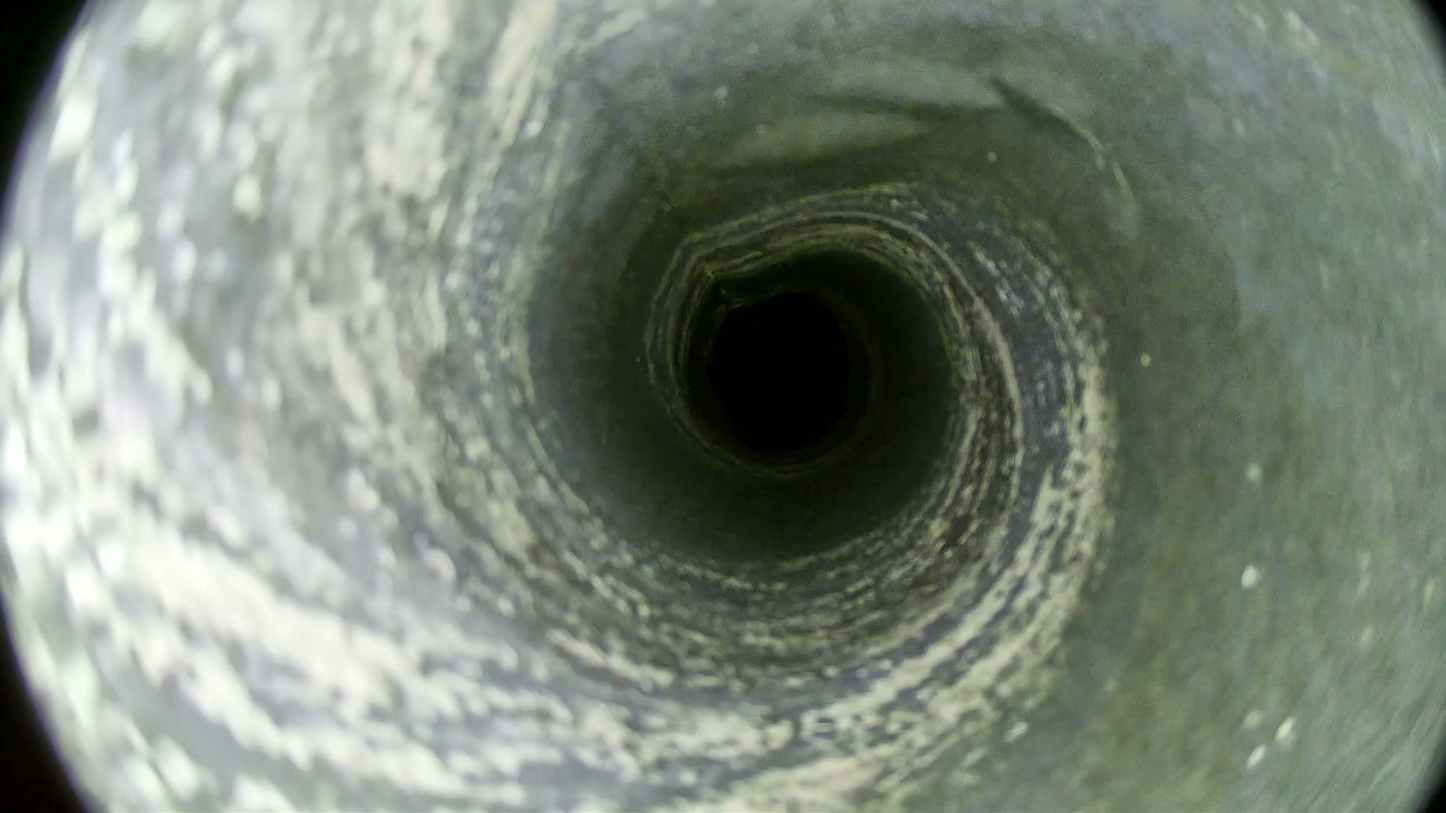hole: (708, 299, 850, 450)
